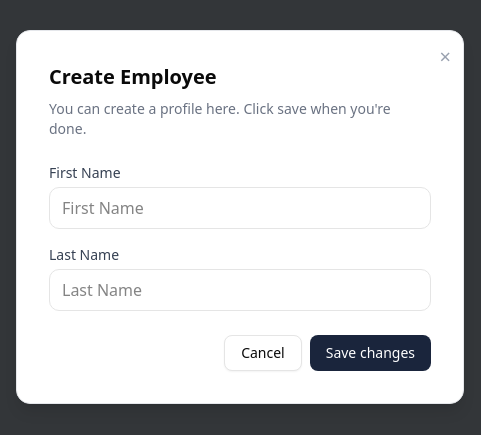
Test: CreateEmployeeModal › shows error when save fails
Type "John" into the field with placeholder "First Name".
click(240, 208); type("John")  # box [49,187,431,229]
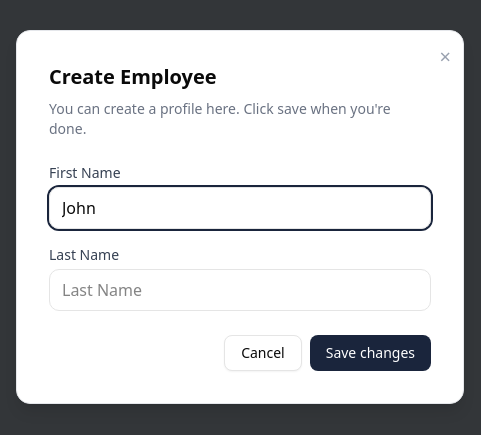
Type "Doe" into the field with placeholder "Last Name".
click(240, 290); type("Doe")  # box [49,269,431,311]
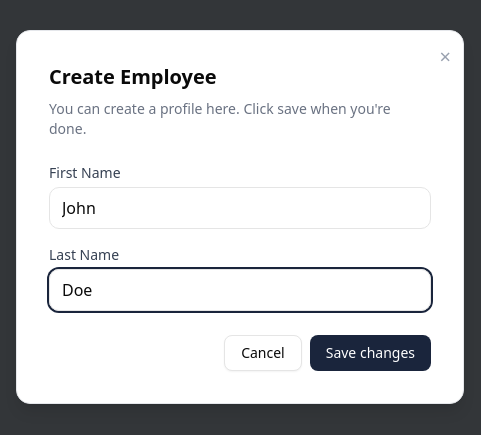
Click the button "Save changes".
click(370, 353)  # box [310,335,431,371]
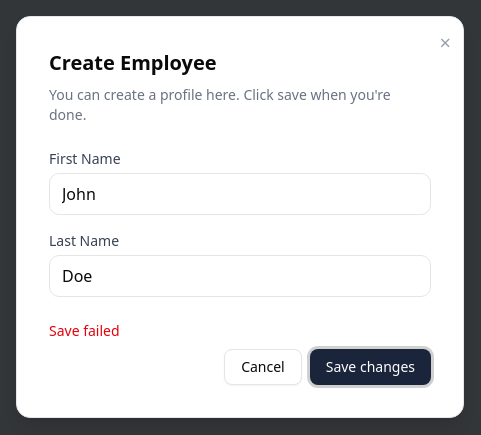
Now the text "Save failed" is shown, box [49,321,120,340]
